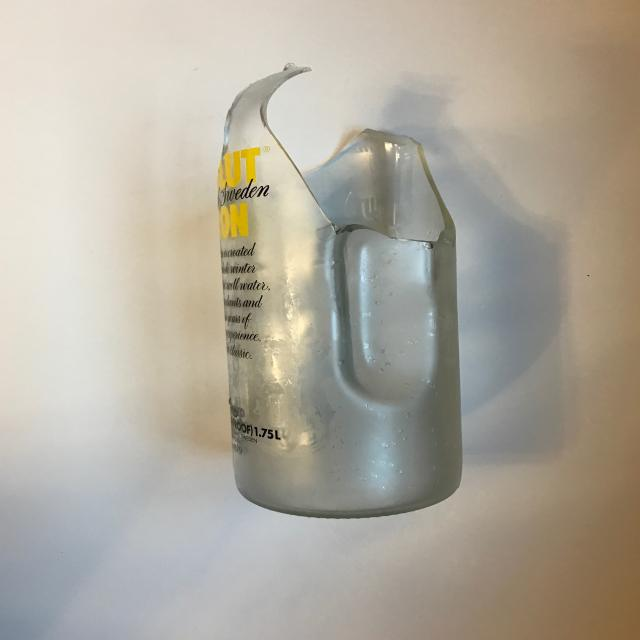glass: (217, 62, 463, 518)
